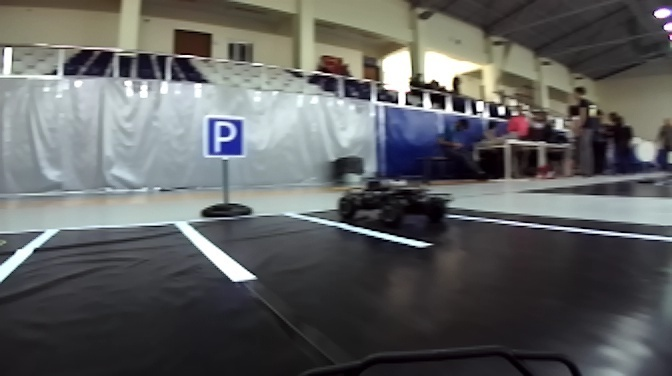park: (201, 113, 249, 160)
